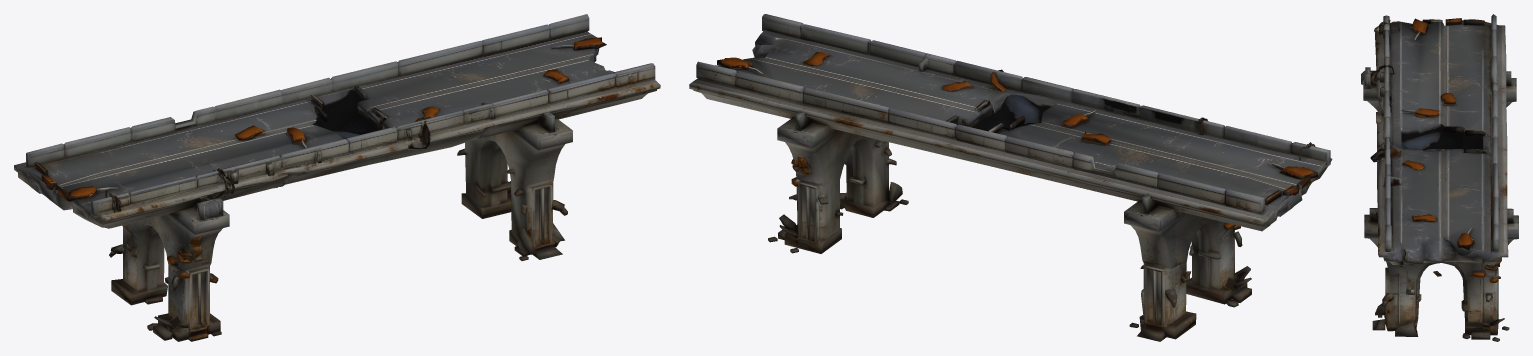
The model's file is overpass.glb.
3 views of the same model, side by side, from view 1: azimuth 30°, elevation 25°; view 2: azimuth 150°, elevation 25°; view 3: azimuth 270°, elevation 25° (orthographic). The views are drawn at different scales.
Visible parts, largest first — view 1: tripo_node_c1d1eb69-8d5c-487e-ace5-c146f1b3e36d; view 2: tripo_node_c1d1eb69-8d5c-487e-ace5-c146f1b3e36d; view 3: tripo_node_c1d1eb69-8d5c-487e-ace5-c146f1b3e36d.
Part boxes in pixels (x1=…): tripo_node_c1d1eb69-8d5c-487e-ace5-c146f1b3e36d: x1=14, y1=14, x2=660, y2=341; tripo_node_c1d1eb69-8d5c-487e-ace5-c146f1b3e36d: x1=689, y1=14, x2=1332, y2=341; tripo_node_c1d1eb69-8d5c-487e-ace5-c146f1b3e36d: x1=1361, y1=14, x2=1518, y2=341.
Bounding box in the file's own units: 0.998 × 0.2715 × 0.291.
1 material, 1 textured.
